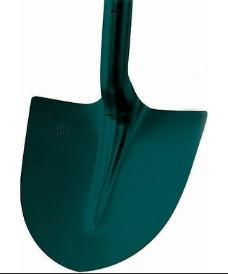PELLE: (21, 0, 228, 274)
